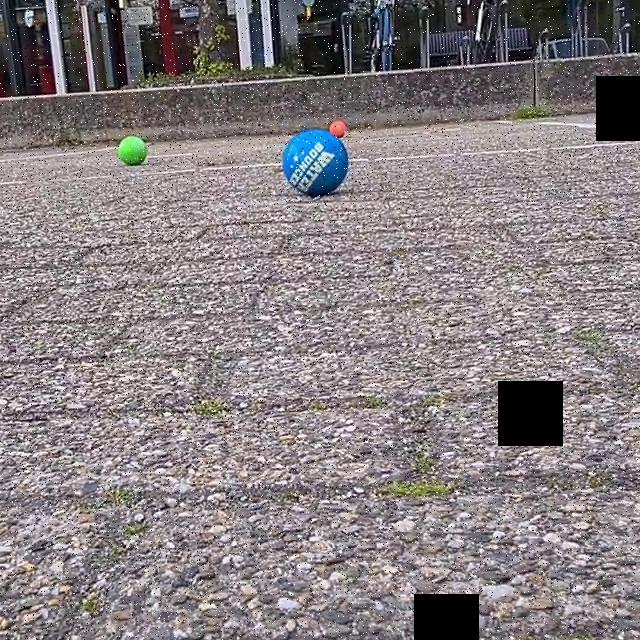ball: (118, 134, 150, 169), (329, 118, 350, 141)
